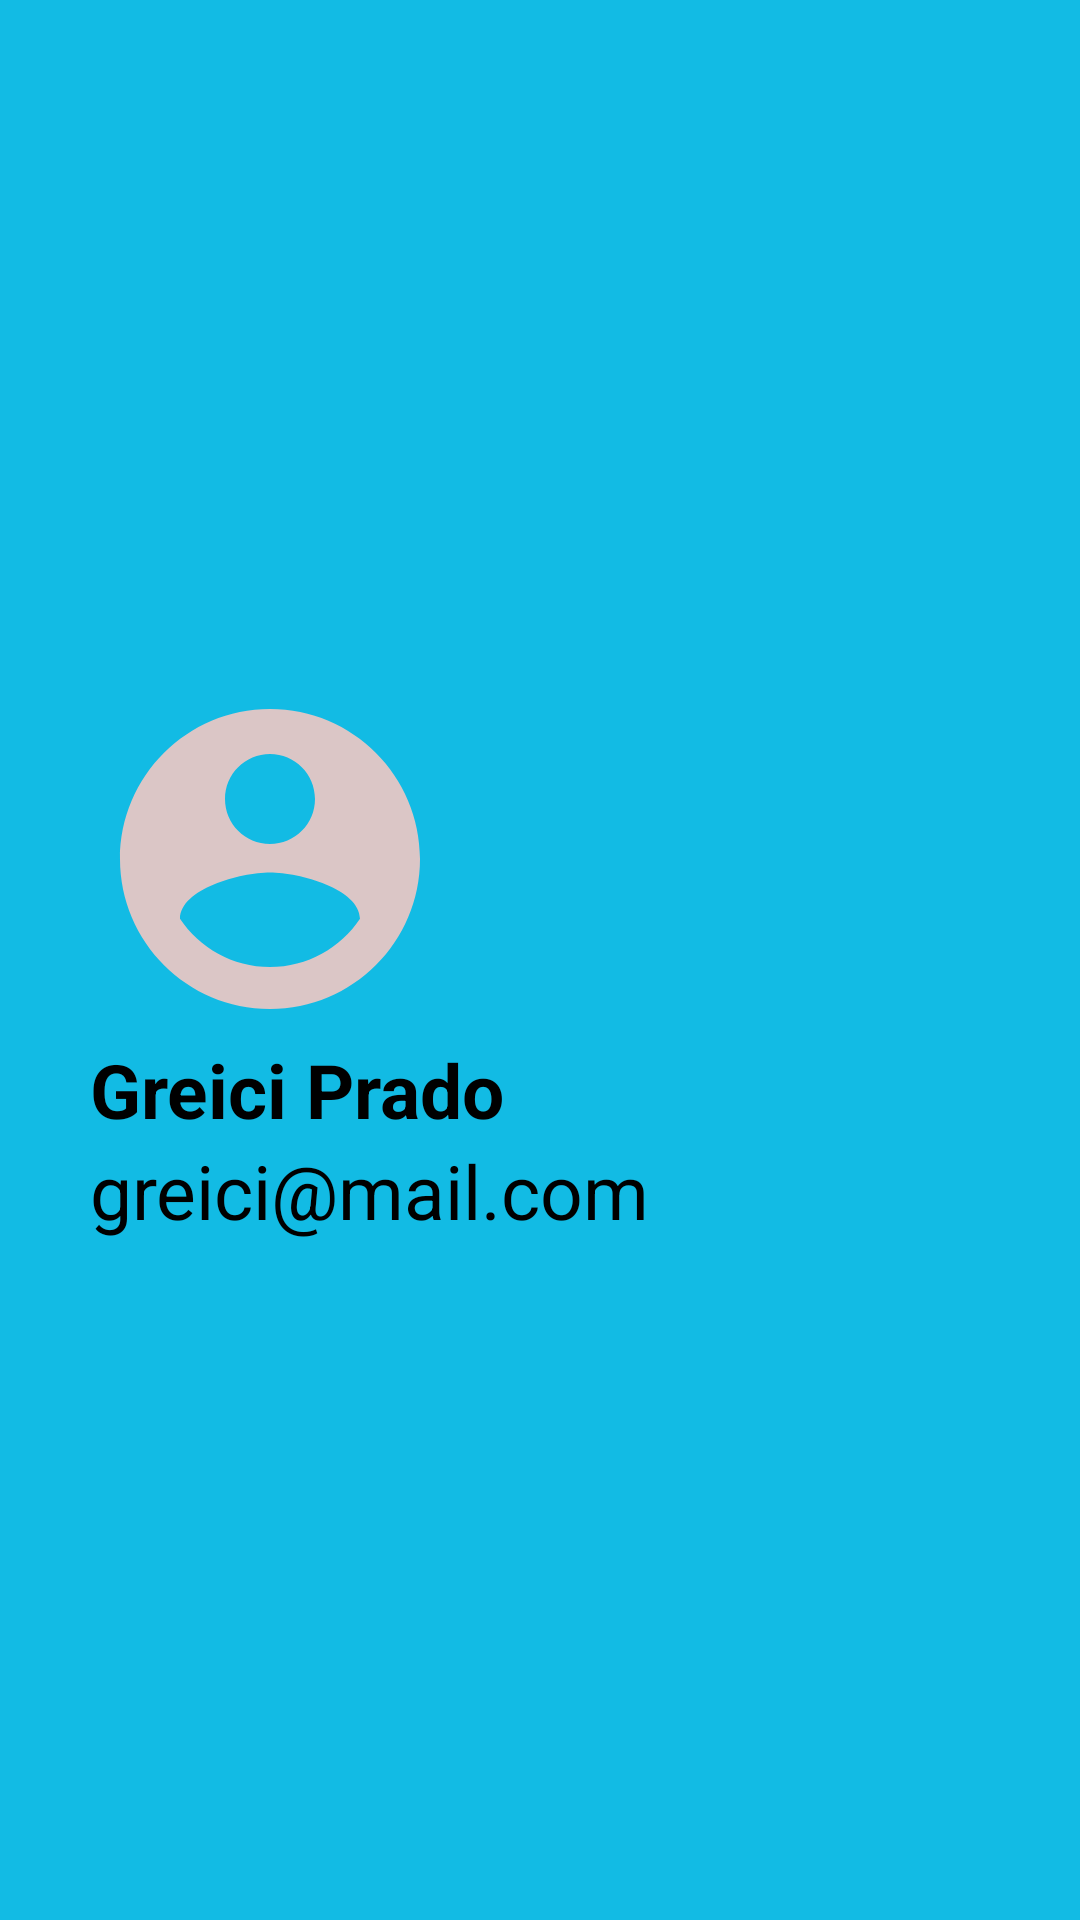

Screen size 1080×1920. Icon name, then its center in pixels as (x=x, y=y):
account circle: (x=270, y=859)
